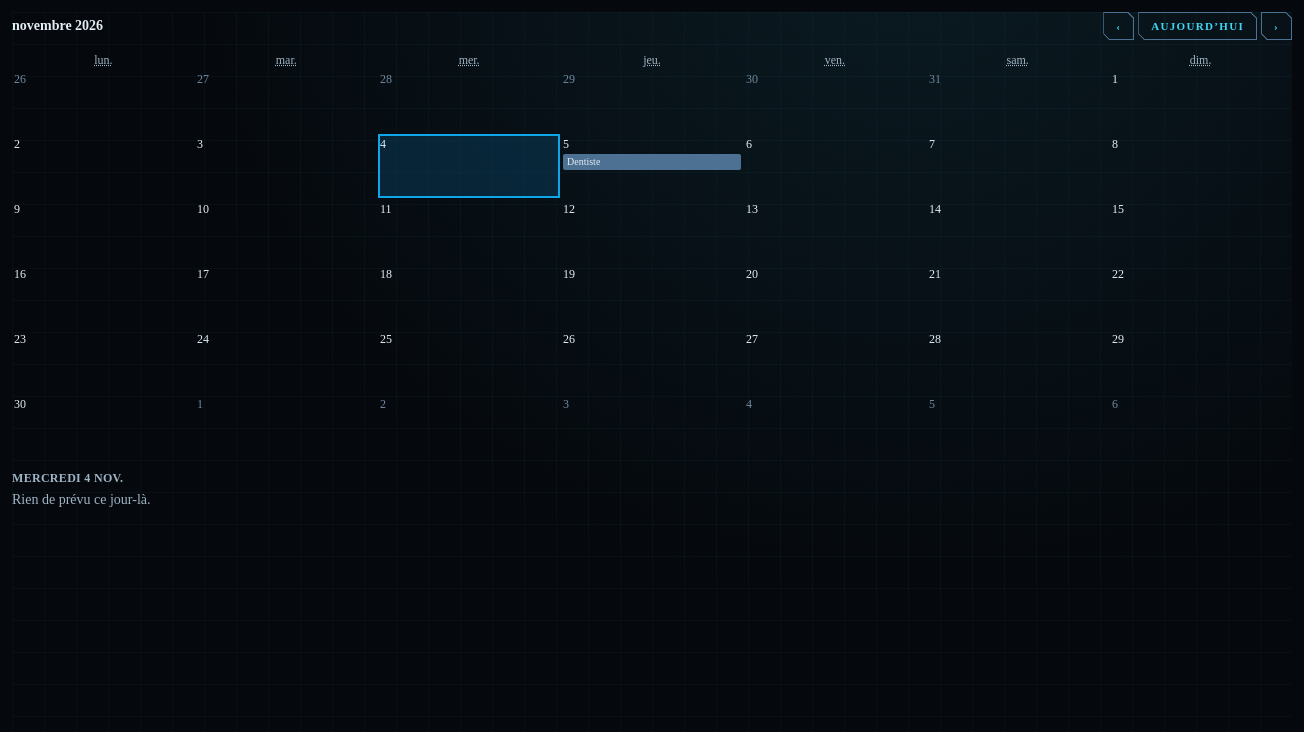
Scenario: AgendaMonth › liste les évènements du jour cliqué, ou dit que rien n’est prévu
The image size is (1304, 732).
Click the button with aria-label "jeudi 5 novembre, 1 évènement" at (652, 166), box [561,134,743,198]
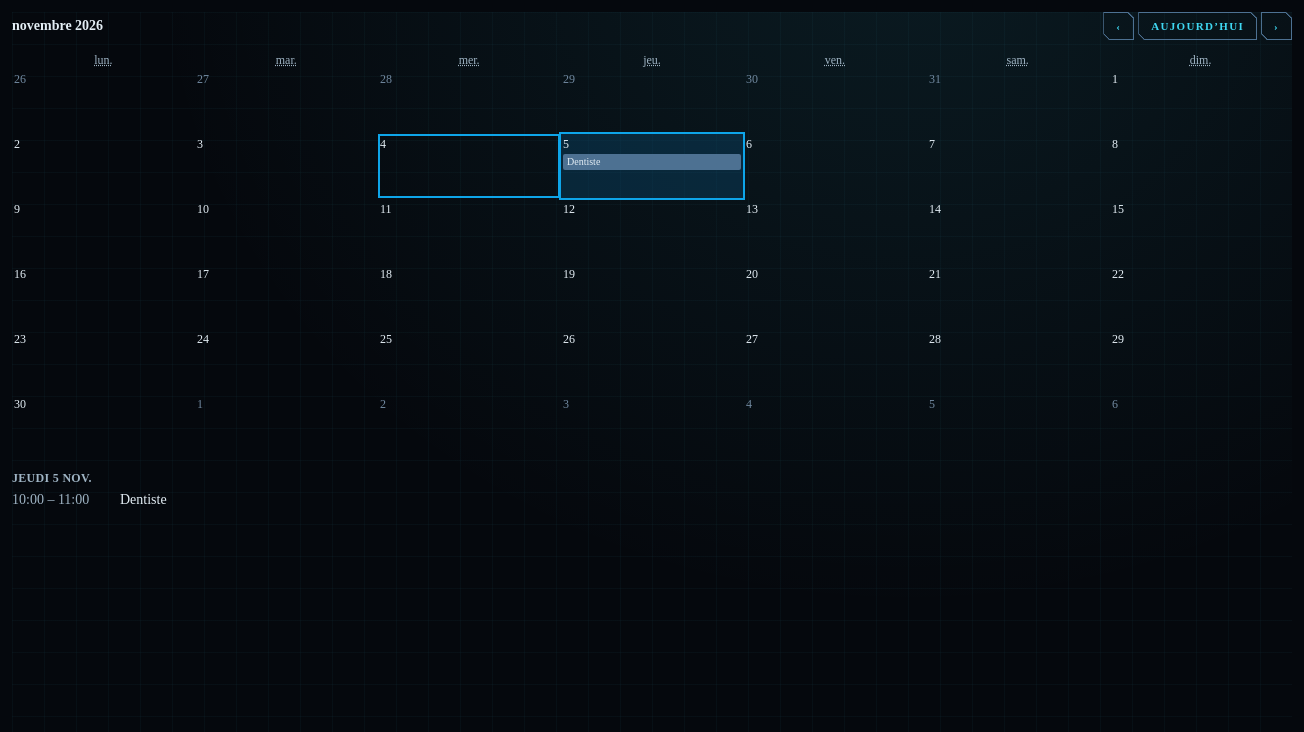
Check: the link "Dentiste" is shown, box [120,492,167,507]
Click the button named "vendredi 6 novembre, aucun évènement" at (835, 166), box [744,134,926,198]
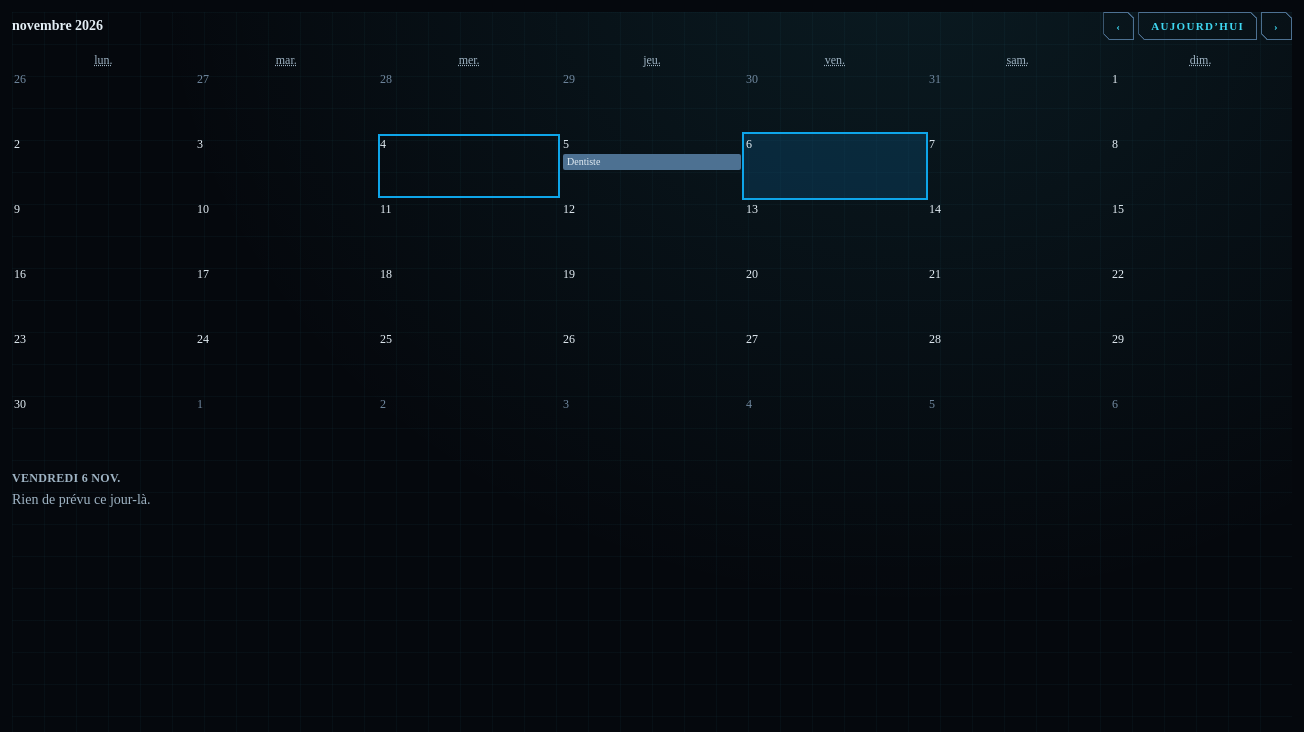
Check: the list is gone
Check: the text "Rien de prévu ce jour-là." is shown, box [12,492,150,507]
